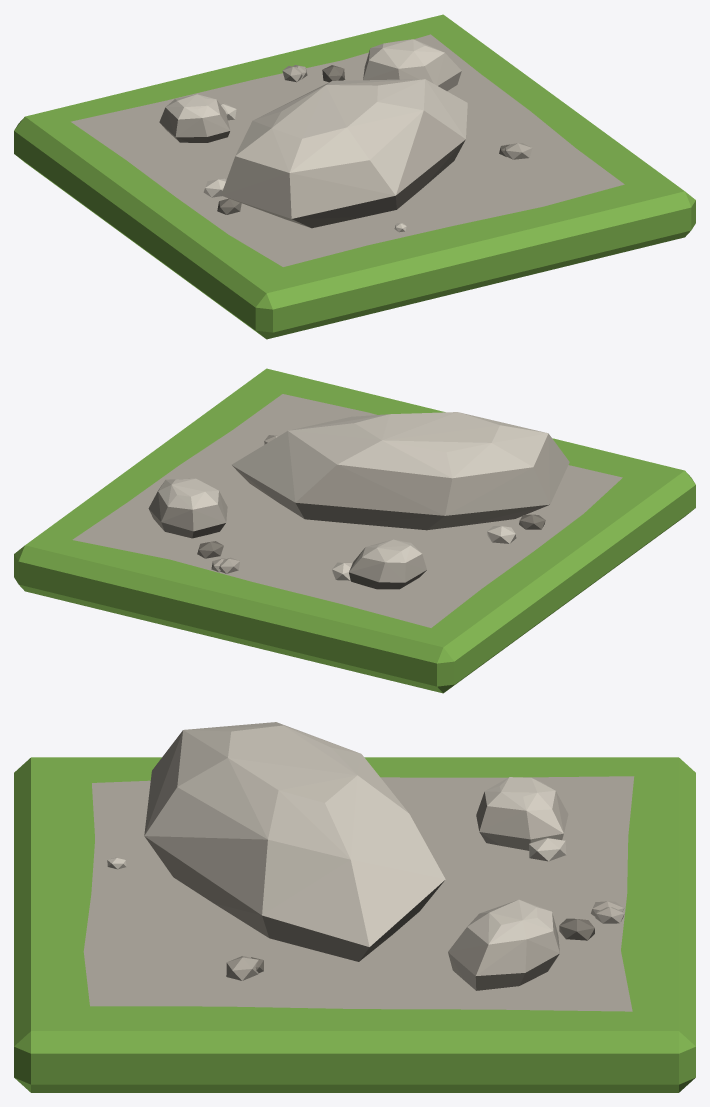
File: tile_rock_c.fbx
3 views of the same model, one above another, from view 1: azimuth 30°, elevation 25°; view 2: azimuth 150°, elevation 25°; view 3: azimuth 270°, elevation 25° (orthographic). The views are drawn at different scales.
Parts seen in each view (by area): view 1: tile_rock_c; view 2: tile_rock_c; view 3: tile_rock_c.
Part boxes in pixels (bbox=[...]): tile_rock_c: bbox=[14, 14, 695, 339]; tile_rock_c: bbox=[14, 368, 695, 693]; tile_rock_c: bbox=[14, 722, 695, 1092].
Bounding box in the file's own units: 1 × 0.2628 × 1.
